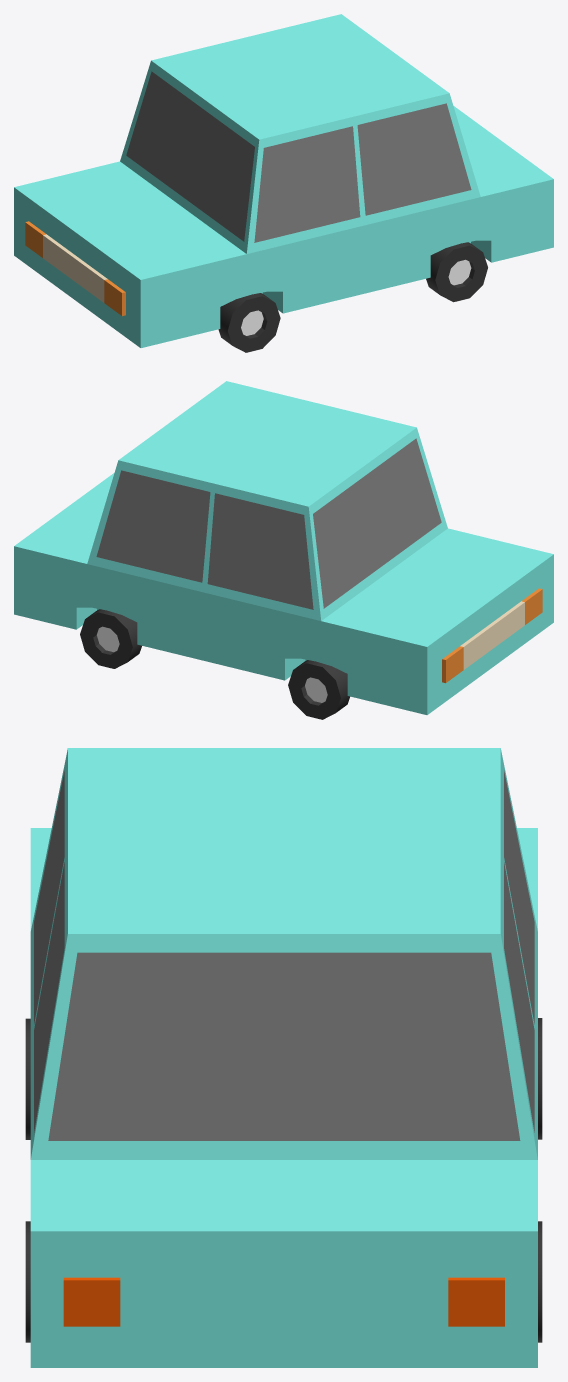
The model's file is Car 03.FBX.
3 renders of one model, top to bottom at view 1: azimuth 30°, elevation 25°; view 2: azimuth 150°, elevation 25°; view 3: azimuth 270°, elevation 25°, orthographic. The views are drawn at different scales.
Visible parts, largest first — view 1: Box001, Cylinder002, Cylinder001; view 2: Box001, Cylinder004, Cylinder003; view 3: Box001.
Boxes of the visible parts, box(x1,y1,x2,y2) form: Box001: box(14, 14, 553, 347); Cylinder002: box(218, 293, 280, 352); Cylinder001: box(426, 242, 487, 302); Box001: box(14, 381, 553, 714); Cylinder004: box(288, 660, 349, 719); Cylinder003: box(80, 609, 141, 668); Box001: box(30, 748, 537, 1367).
Size of the model in its own units: 23.1 by 10.5 by 12.31.
